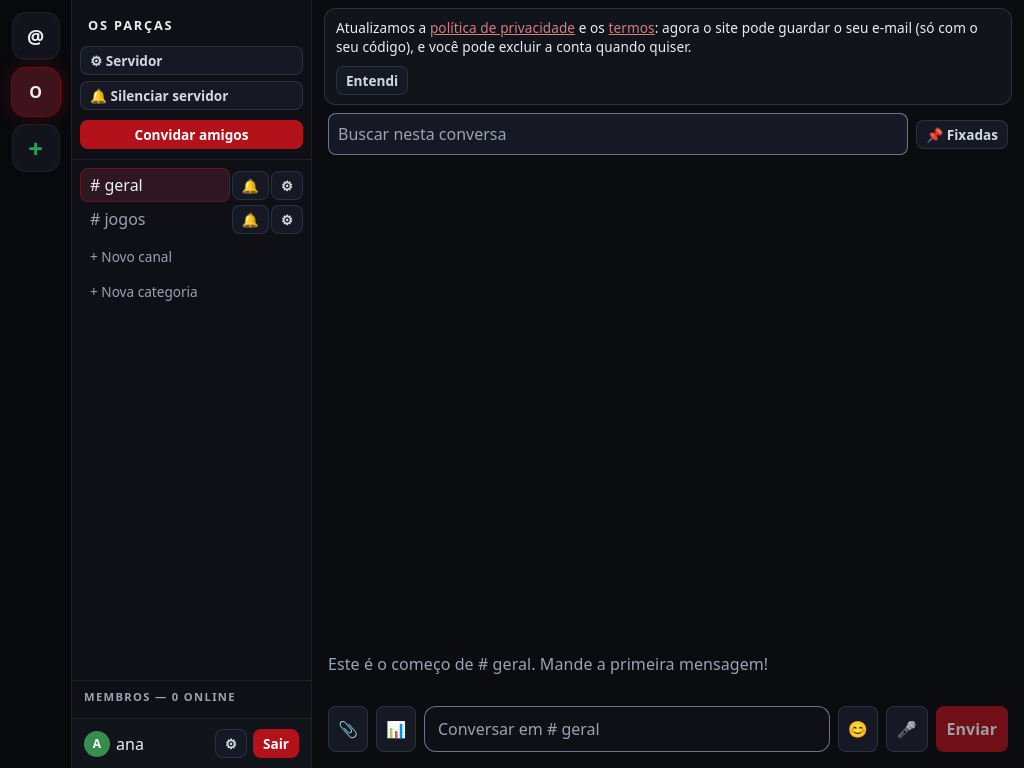
Test: mensagens › não duplica a mensagem quando ela chega pela resposta e pelo socket
This screenshot has width=1024, height=768.
Type "uma só vez" into the field named "Mensagem em # geral" at [627, 729], box [424,706,830,752]
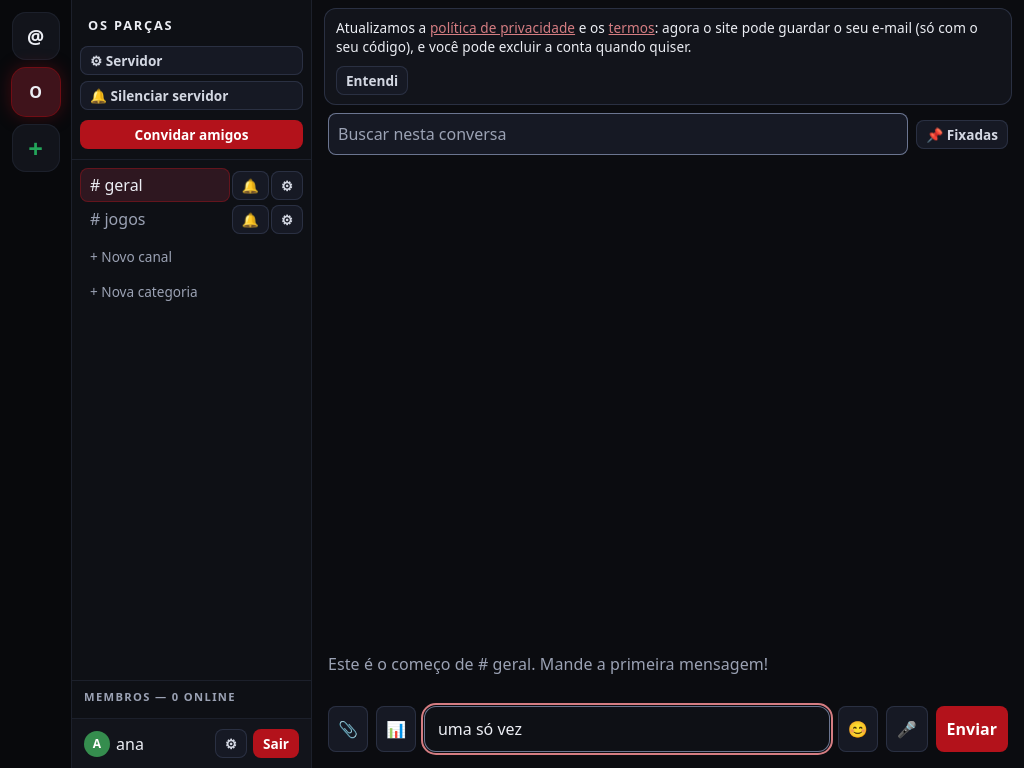
Click the button "Enviar" at [972, 729], box [936,706,1008,752]
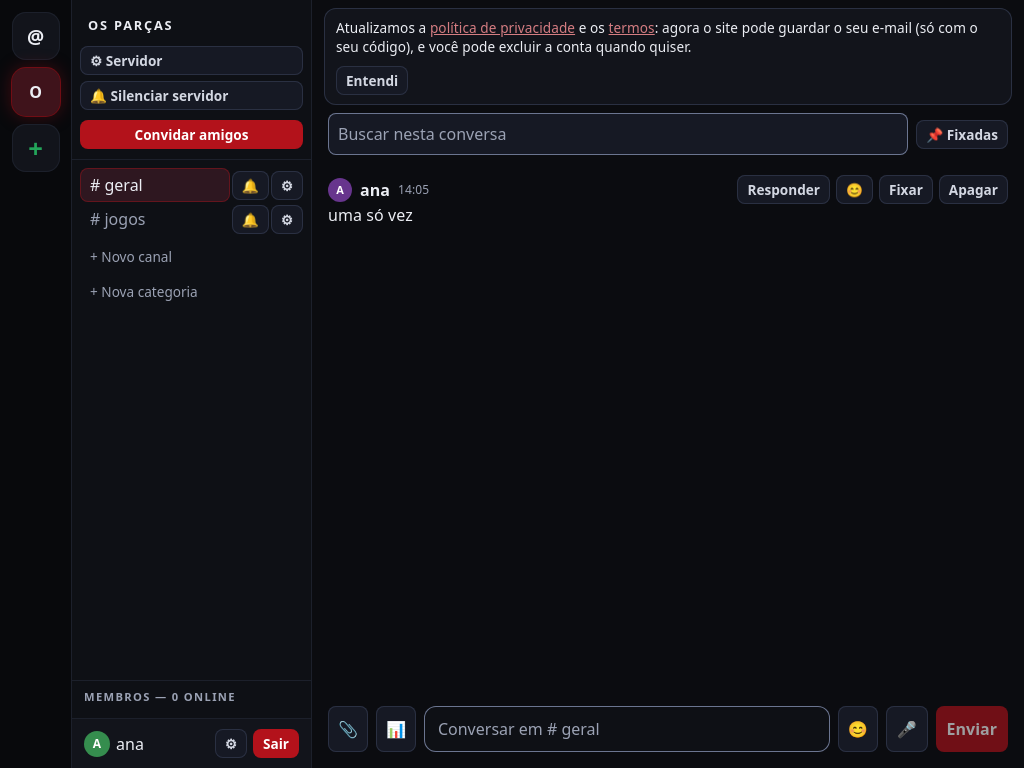
Now the text "uma só vez" is shown, box [328,204,413,226]
